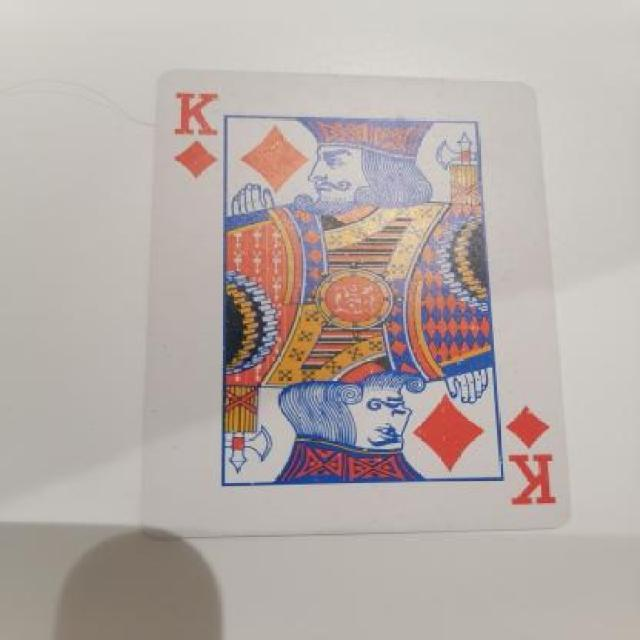KD: (494, 385, 558, 507), (162, 90, 244, 185)
